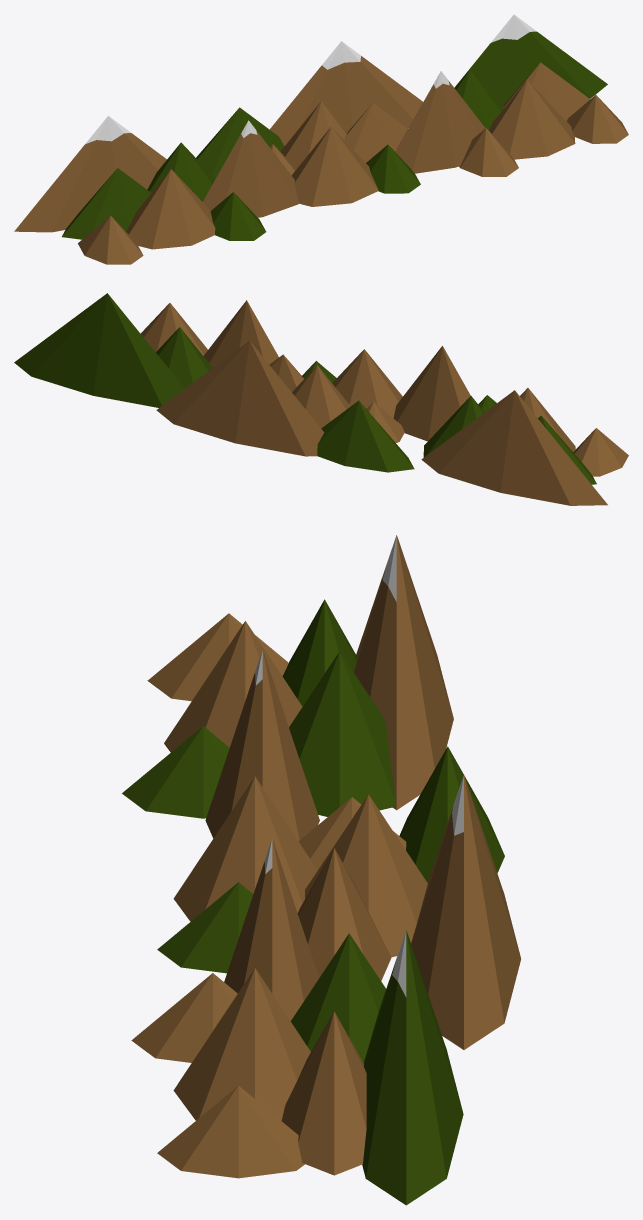
The model's file is Montañas.fbx.
3 renders of one model, top to bottom at view 1: azimuth 30°, elevation 25°; view 2: azimuth 150°, elevation 25°; view 3: azimuth 270°, elevation 25°, orthographic. The views are drawn at different scales.
Visible parts, largest first — view 1: Cone004; view 2: Cone004; view 3: Cone004.
Boxes of the visible parts, x1=… form: Cone004: x1=14, y1=14, x2=628, y2=264; Cone004: x1=14, y1=293, x2=628, y2=505; Cone004: x1=122, y1=535, x2=520, y2=1205.
Bounding box in the file's own units: 23300 × 3523 × 6810.
